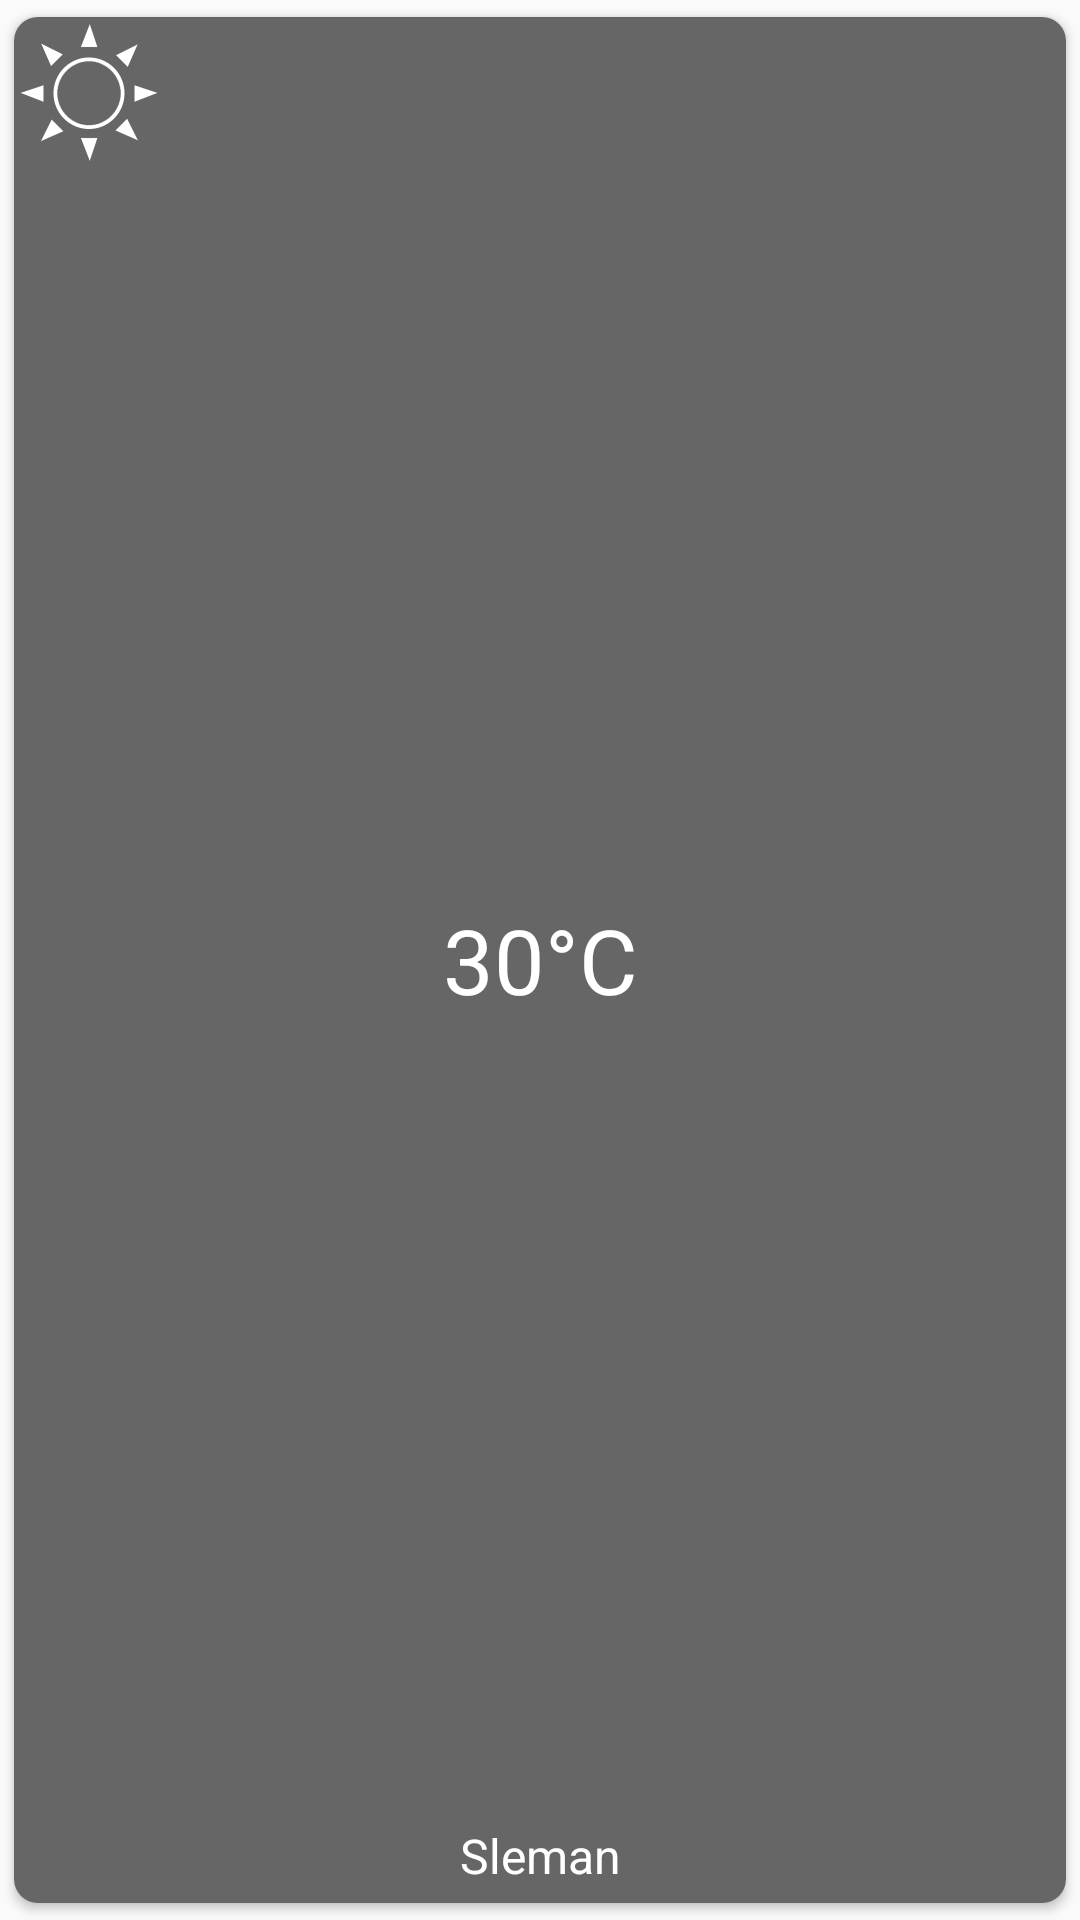

Icons on this 1080px×1920px Android screen, each with the point to tap as point (x, y):
weather 01d: point (89, 92)
